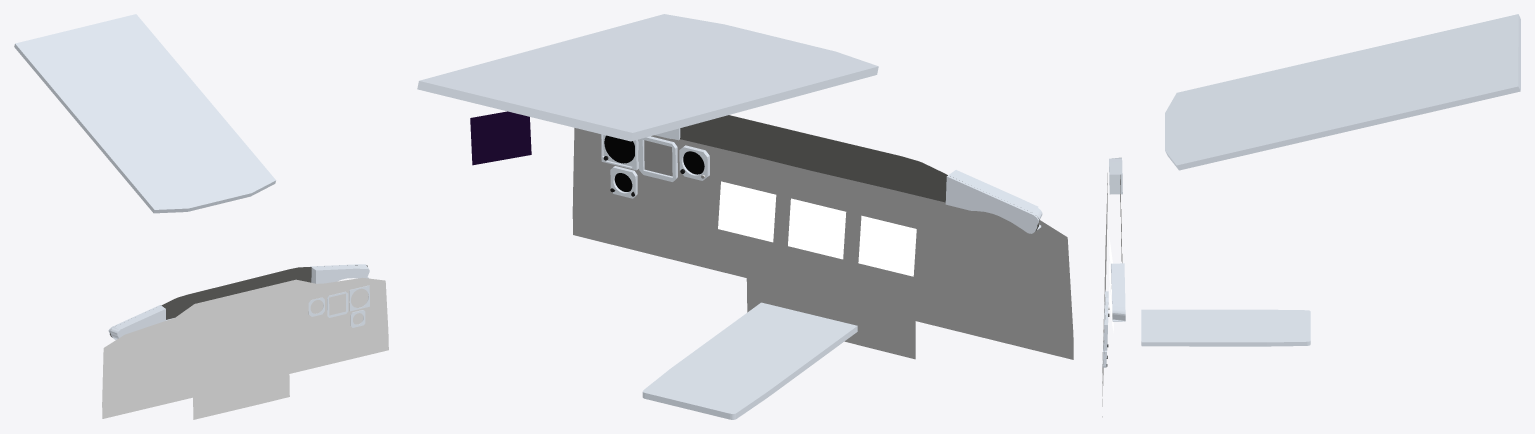
The model's file is interior_v1.gltf.
3 views of the same model, side by side, from view 1: azimuth 30°, elevation 25°; view 2: azimuth 150°, elevation 25°; view 3: azimuth 270°, elevation 25° (orthographic). The views are drawn at different scales.
Visible parts, largest first — view 1: Backplane, Overhead, MCP, MCP_Sides; view 2: Backplane, Overhead, Pedestal, MCP, Screens, MCP_Sides, Plane, cpt_pfd_frame, cpt_airspeed; view 3: Overhead, Pedestal, MCP_Sides.
Part boxes in pixels (bbox=[...]): Backplane: bbox=[102, 277, 388, 419]; Overhead: bbox=[14, 14, 275, 213]; MCP: bbox=[110, 265, 367, 337]; MCP_Sides: bbox=[108, 264, 369, 339]; Backplane: bbox=[572, 128, 1073, 359]; Overhead: bbox=[417, 14, 878, 141]; Pedestal: bbox=[642, 302, 857, 419]; MCP: bbox=[680, 115, 1039, 231]; Screens: bbox=[718, 181, 916, 276]; MCP_Sides: bbox=[655, 128, 1042, 233]; Plane: bbox=[470, 111, 531, 165]; cpt_pfd_frame: bbox=[638, 136, 677, 181]; cpt_airspeed: bbox=[601, 134, 638, 170]; Overhead: bbox=[1165, 14, 1520, 170]; Pedestal: bbox=[1141, 309, 1310, 346]; MCP_Sides: bbox=[1109, 157, 1125, 321].
Size of the model in its own units: 1.95 by 1.57 by 1.91.
